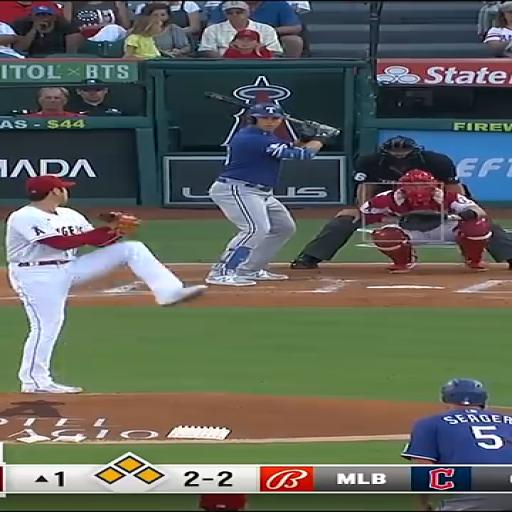bat: (286, 115, 341, 135)
